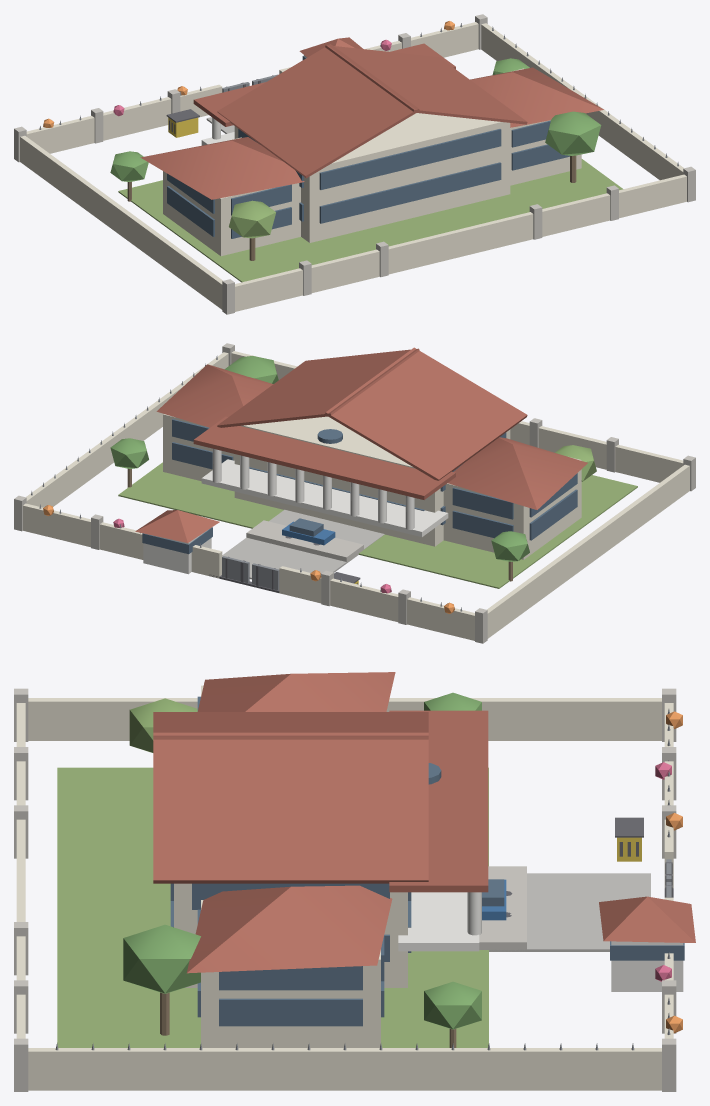
File: villa_maitama_2.glb
The picture shows the model from 3 angles, top to bottom: view 1: azimuth 30°, elevation 25°; view 2: azimuth 150°, elevation 25°; view 3: azimuth 270°, elevation 25°; orthographic projection. The views are drawn at different scales.
Parts seen in each view (by area): view 1: BLD_villa_maitama_2; view 2: BLD_villa_maitama_2; view 3: BLD_villa_maitama_2.
Boxes of the visible parts, x1,y1,x2,y2 form: BLD_villa_maitama_2: (14, 14, 695, 314); BLD_villa_maitama_2: (14, 343, 695, 643); BLD_villa_maitama_2: (14, 672, 695, 1091).
Bounding box in the file's own units: 46.8 × 11.01 × 37.9.
